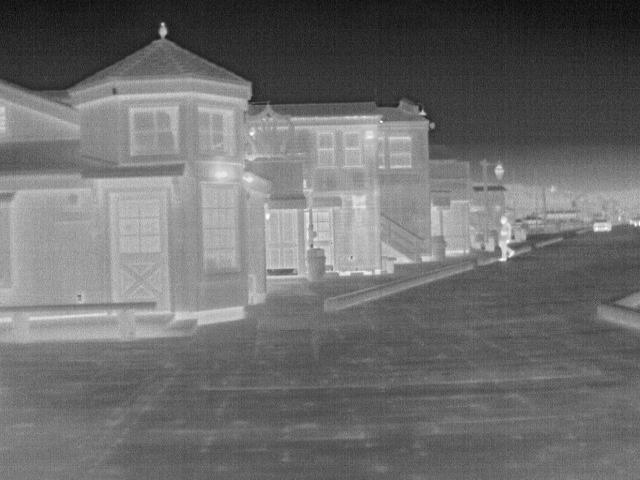car: (590, 218, 612, 234)
person: (495, 216, 517, 262)
